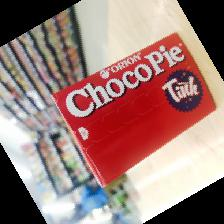Chocopie: (51, 31, 216, 190)
